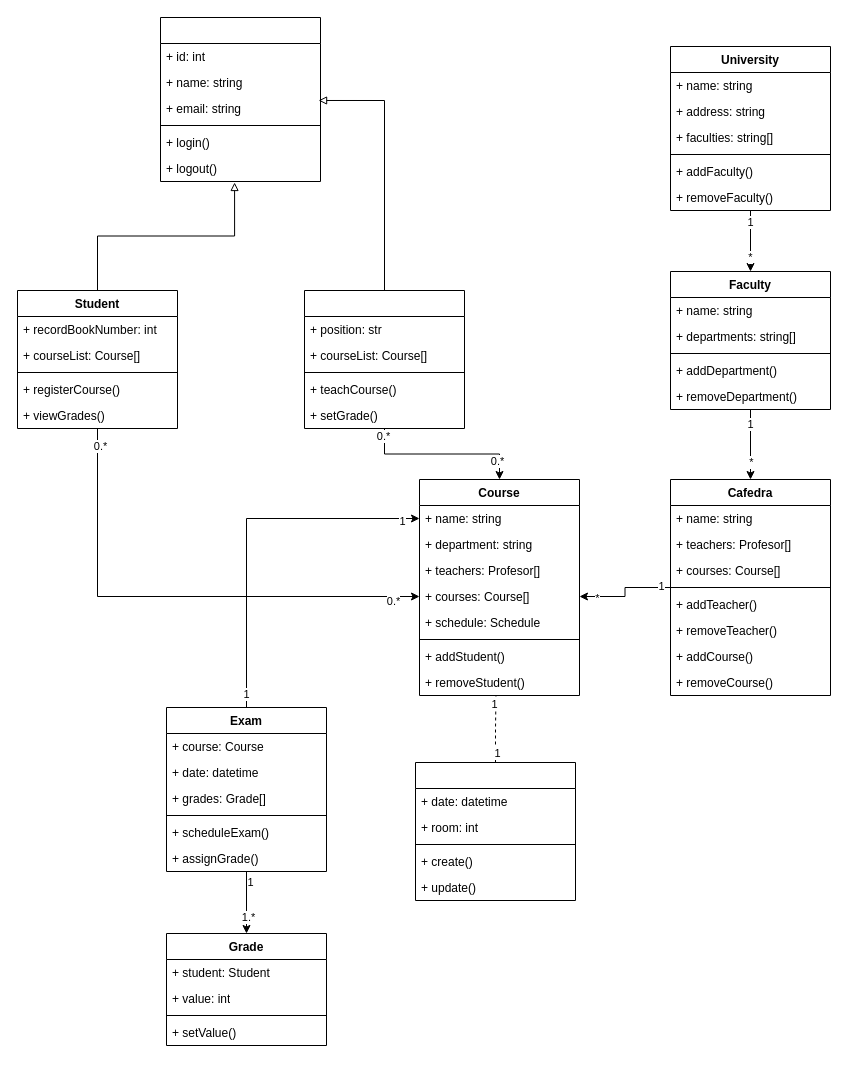
The diagram is 848 pixels wide and 1066 high, and some of its shapes have lost their labels. The shapes that lost their labels are listed below. From the top down, each one's box as (x1, y1, x2, y2) in pixels, then its label:
(160, 16, 320, 182): User
(304, 290, 464, 428): Profesor
(414, 762, 576, 900): Schedule
